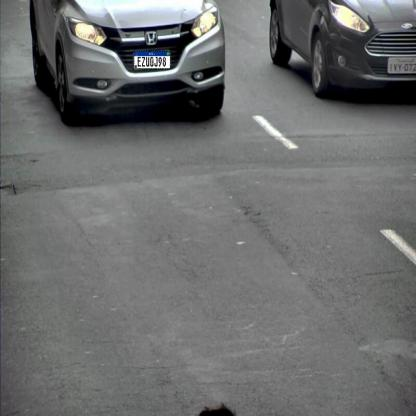PlacaM: (134, 51, 170, 69)
